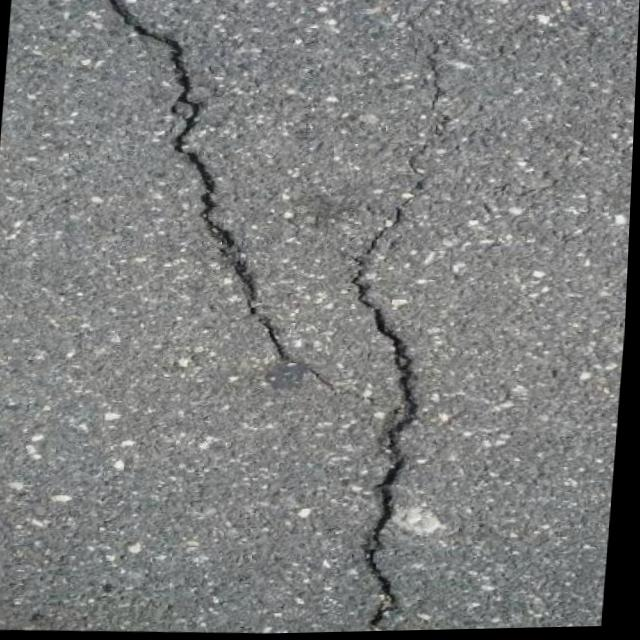Crack: (61, 0, 331, 377), (318, 149, 477, 634)
